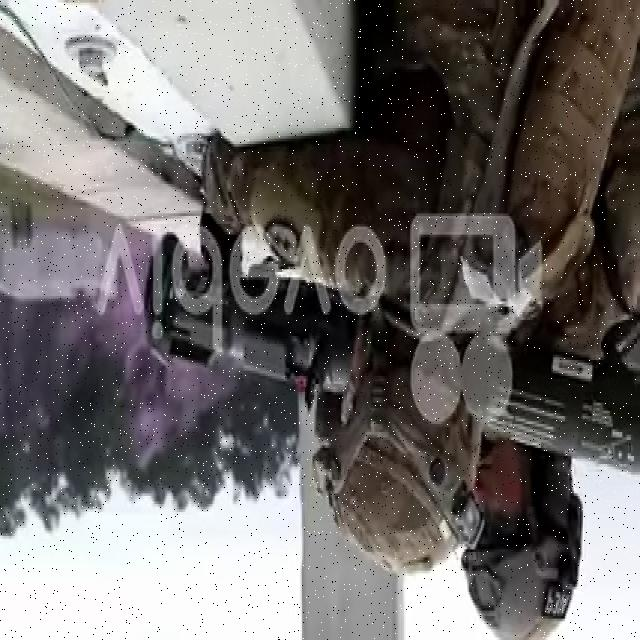bazooka: (140, 219, 640, 489)
